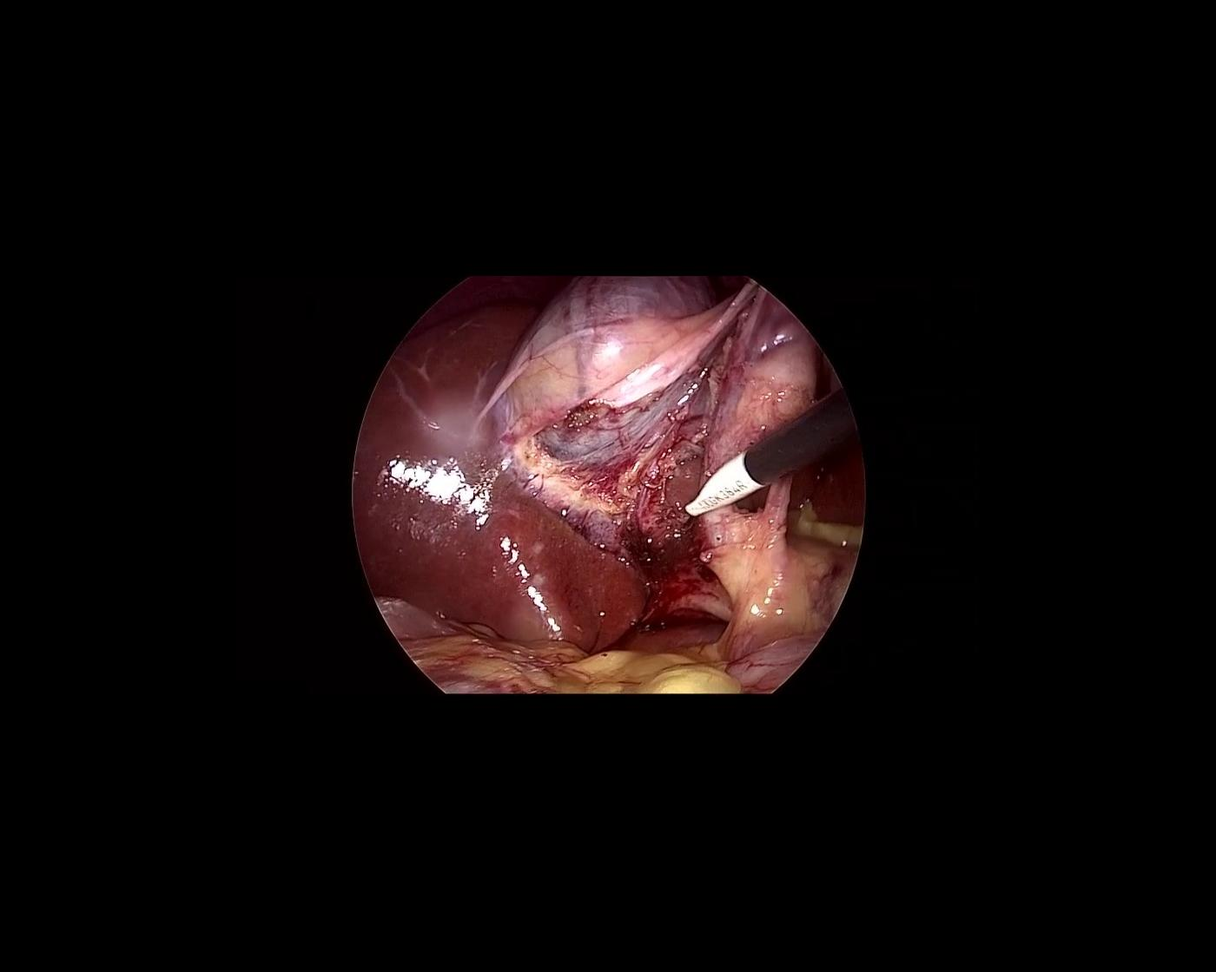Cautery: (657, 387, 864, 519)
Gallbladder: (444, 185, 836, 568)
Liver: (291, 279, 662, 712)
